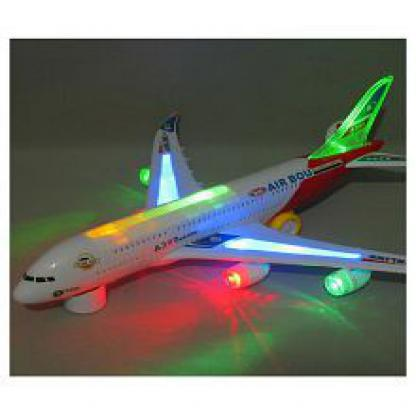CIV_Plane: (12, 69, 407, 314)
